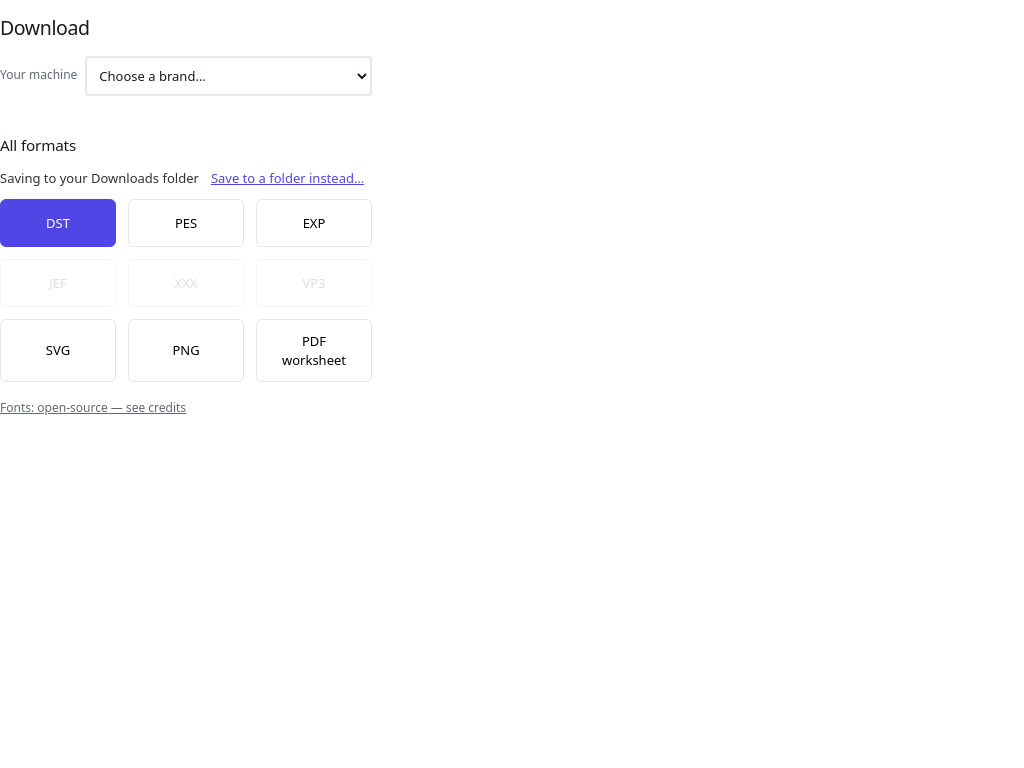
Test case: the confirm names the format it holds, so one dialog serves them all
Click the button "PES": (186, 223) [128,199,244,247]
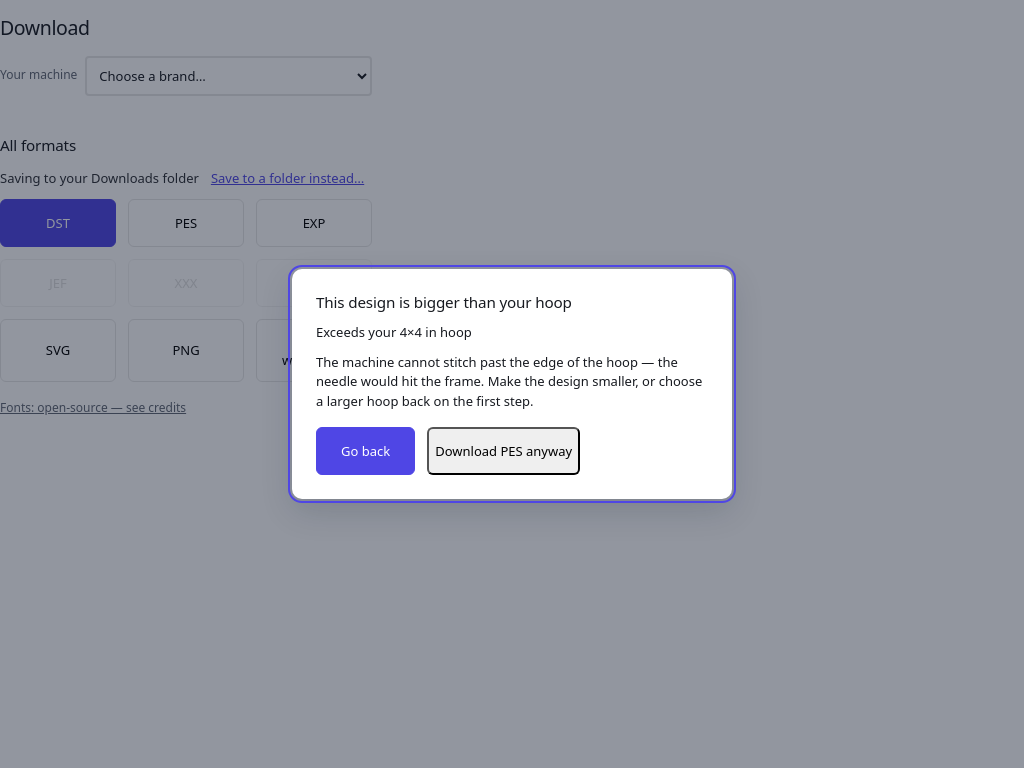
Expected: the dialog shows "Download PES anyway", [427,428,580,476]
